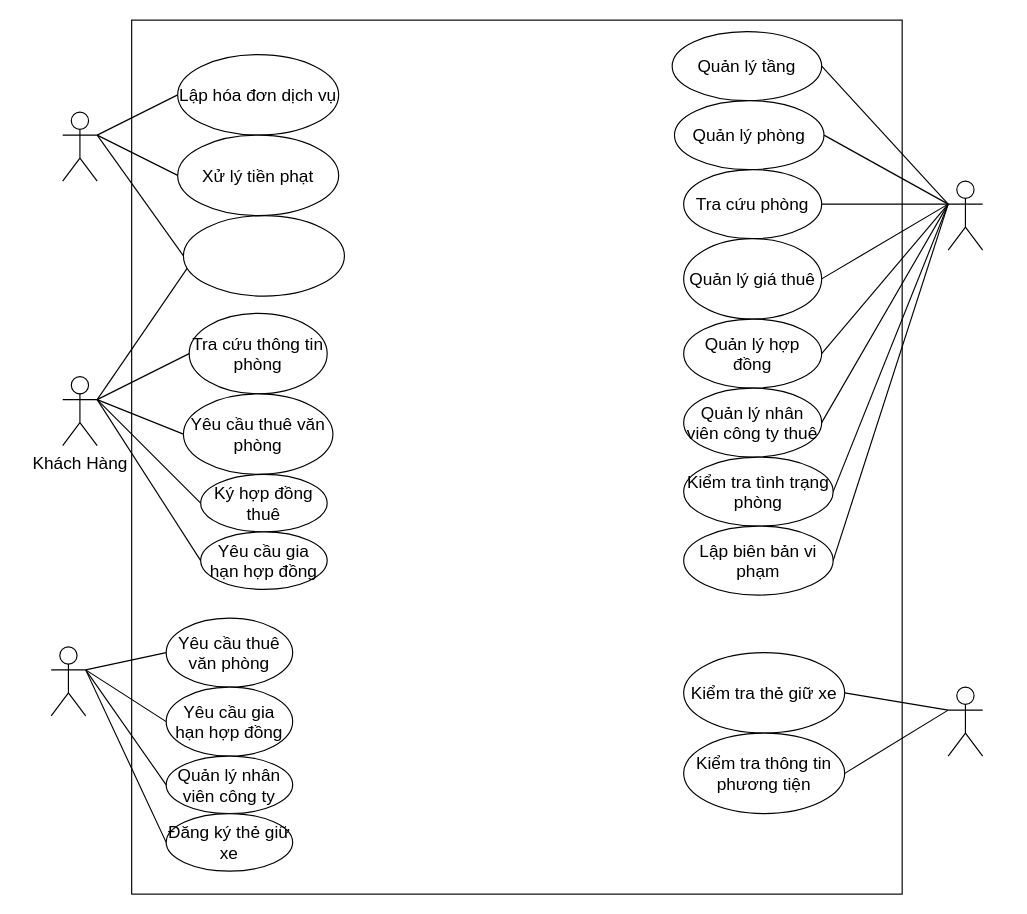
The diagram is 1027 pixels wide and 914 high, and some of its shapes have lost their labels. Here are the shapes that lost their labels. From the top down, the box of each, then its label:
(62, 111, 97, 181): Kê Toán
(947, 180, 983, 250): Nhân viên
(182, 214, 344, 296): Thanh toán tiền thuê và dịch vụ
(50, 646, 86, 716): Công ty thuê
(947, 686, 983, 756): Bảo vệ
